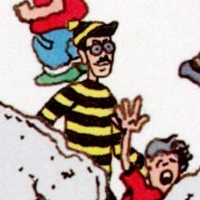odlaw: (81, 21, 113, 76)
